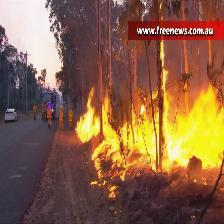fire: (74, 54, 222, 175)
